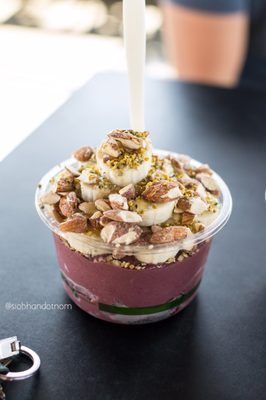pizza: (159, 0, 252, 90), (0, 337, 41, 400)
sushi: (35, 128, 233, 325)
